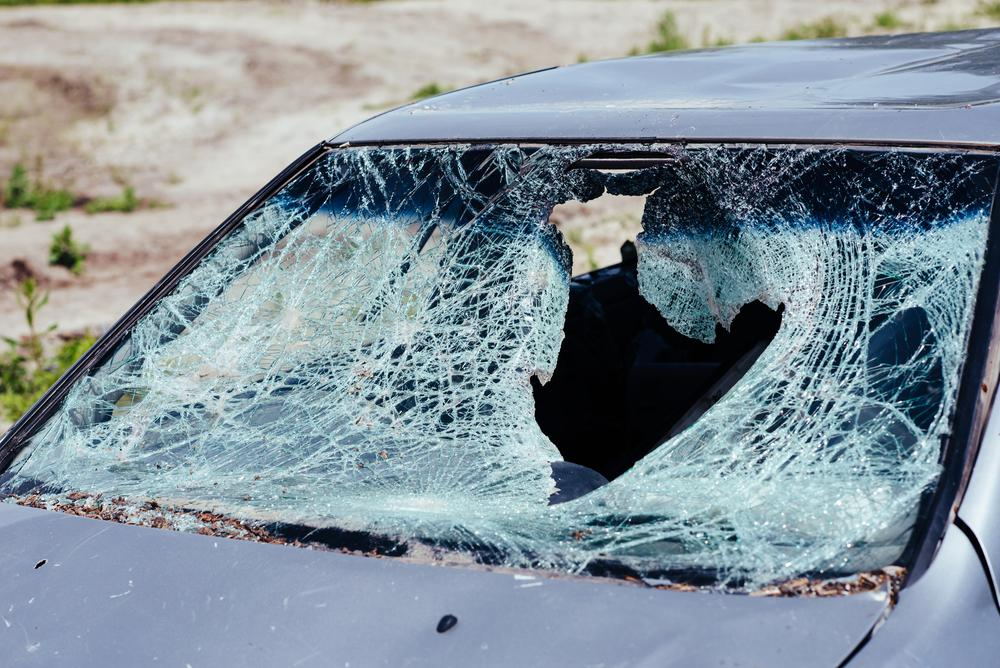dent: (415, 28, 1000, 112)
glass shatter: (0, 142, 1000, 589)
